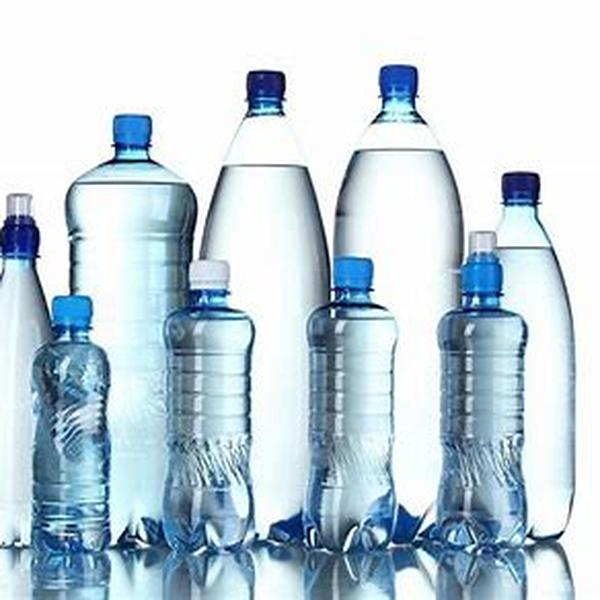tutuma: (429, 223, 535, 563), (301, 248, 404, 562), (154, 257, 261, 556), (25, 286, 113, 557)
